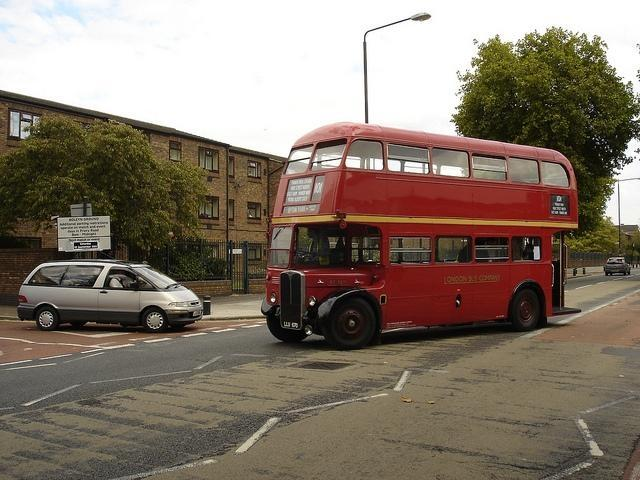bus: (265, 127, 585, 349)
car: (17, 263, 205, 328), (604, 256, 632, 276)
